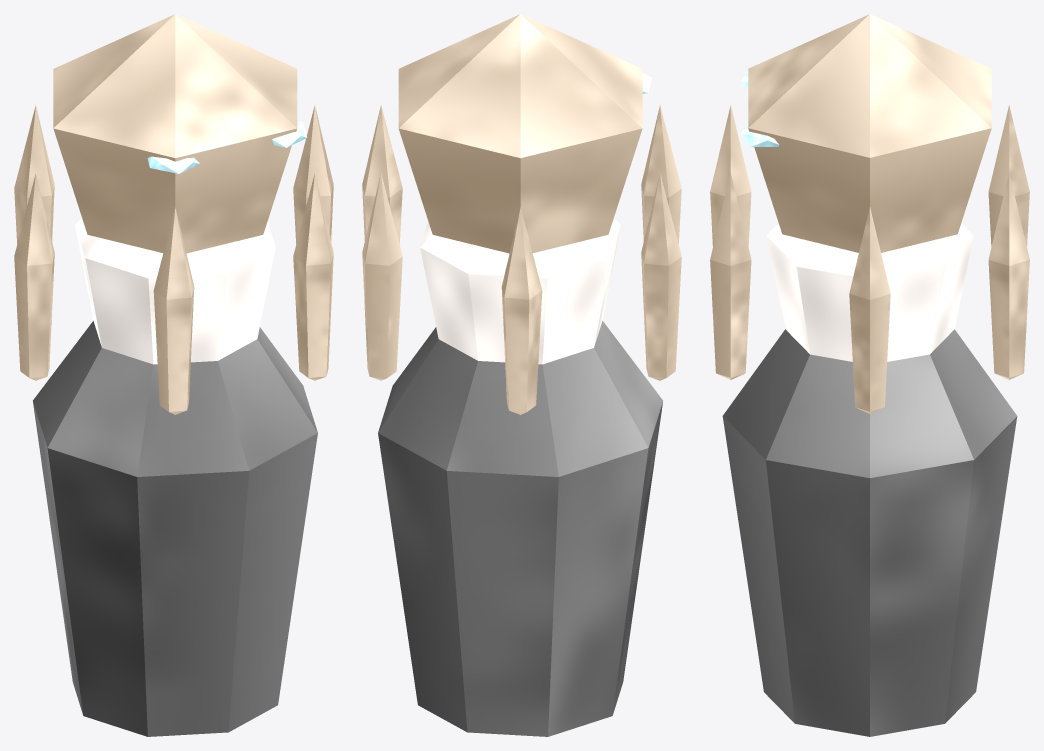
File: deep-fracture-creature-FacetSentry-earth.glb
The picture shows the model from 3 angles, left to right: view 1: azimuth 30°, elevation 25°; view 2: azimuth 150°, elevation 25°; view 3: azimuth 270°, elevation 25°; orthographic projection.
Visible parts, largest first — view 1: pedestal, sensor, control-core, prong1, prong3, prong2, prong4, prong0, inset-eye--1; view 2: pedestal, sensor, control-core, prong5, prong3, prong4, prong0, prong2; view 3: pedestal, sensor, control-core, prong0, prong1, prong5, prong2, prong4.
Boxes of the visible parts, bbox=[...] form: pedestal: bbox=[33, 321, 317, 736]; sensor: bbox=[53, 14, 297, 253]; control-core: bbox=[75, 218, 275, 364]; prong1: bbox=[293, 173, 333, 380]; prong3: bbox=[14, 173, 54, 380]; prong2: bbox=[153, 207, 194, 414]; prong4: bbox=[14, 105, 54, 243]; prong0: bbox=[293, 105, 333, 243]; inset-eye--1: bbox=[147, 156, 199, 173]; pedestal: bbox=[378, 321, 662, 736]; sensor: bbox=[398, 14, 642, 253]; control-core: bbox=[420, 218, 620, 364]; prong5: bbox=[362, 173, 402, 380]; prong3: bbox=[641, 173, 681, 380]; prong4: bbox=[501, 207, 542, 414]; prong0: bbox=[362, 105, 402, 243]; prong2: bbox=[641, 105, 681, 243]; pedestal: bbox=[722, 329, 1017, 736]; sensor: bbox=[748, 14, 991, 252]; control-core: bbox=[766, 223, 973, 361]; prong0: bbox=[849, 207, 890, 413]; prong1: bbox=[710, 173, 751, 379]; prong5: bbox=[988, 173, 1029, 379]; prong2: bbox=[710, 105, 751, 246]; prong4: bbox=[988, 105, 1029, 246].
Size of the model in its own units: 1.08 by 2.3 by 0.955.
Materials: 4 (4 with a texture image).
